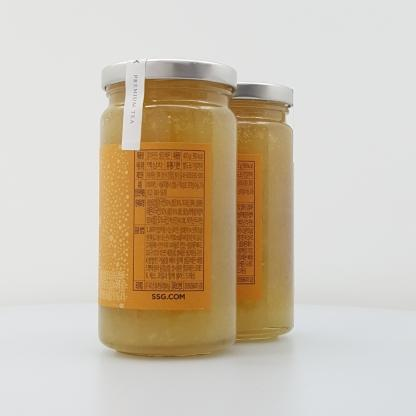--------------400G: (98, 59, 238, 357), (187, 82, 294, 340)
